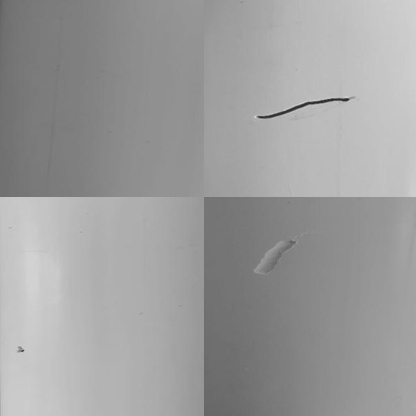fengxi: (253, 96, 356, 118)
kongdong: (18, 340, 28, 357)
sunshang: (254, 236, 300, 276)
